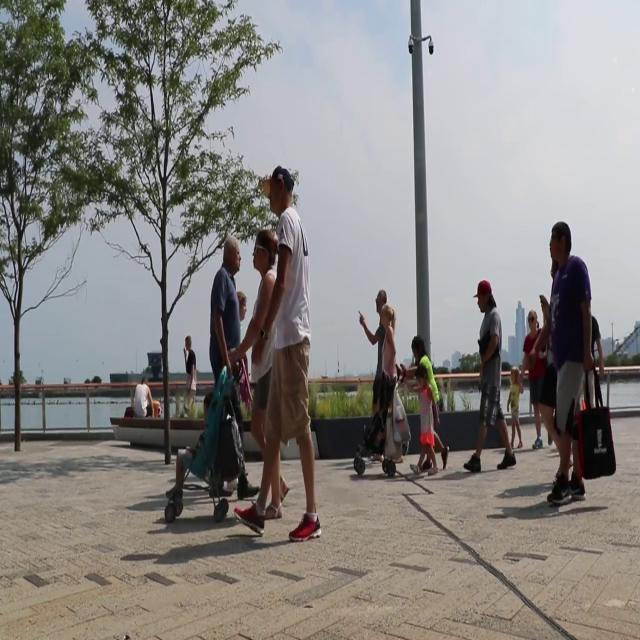normal: (234, 159, 324, 551), (467, 277, 516, 478)
